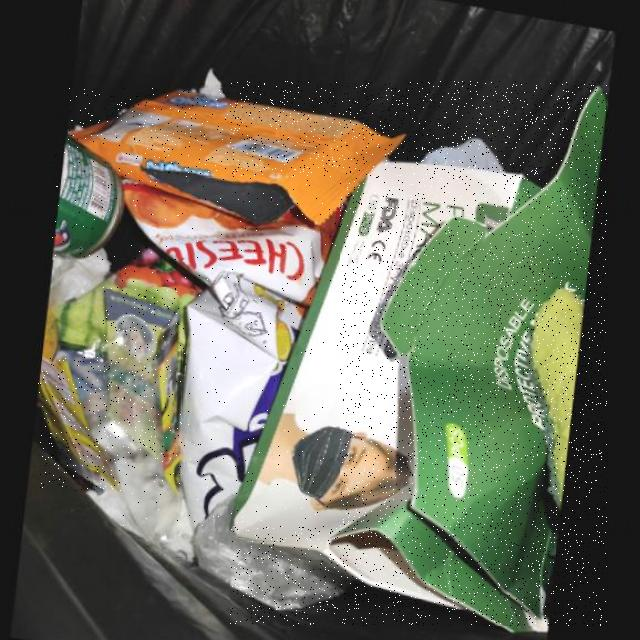metal: (52, 136, 121, 259)
paper: (231, 81, 607, 626)
wrapper: (121, 177, 340, 525), (69, 88, 404, 221), (103, 287, 179, 461), (39, 357, 121, 491), (157, 325, 182, 489)
